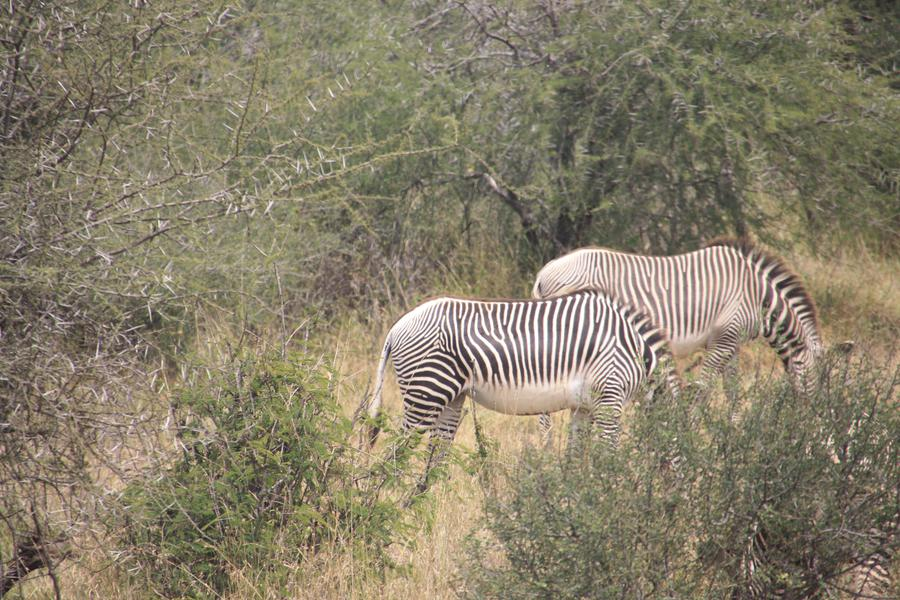zebra_grevys: (383, 290, 625, 406)
